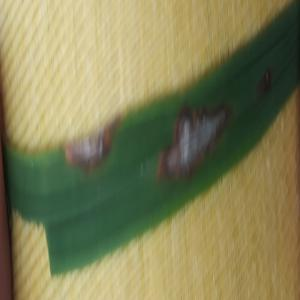Busuk Leher: (161, 108, 230, 169), (62, 132, 118, 172)
